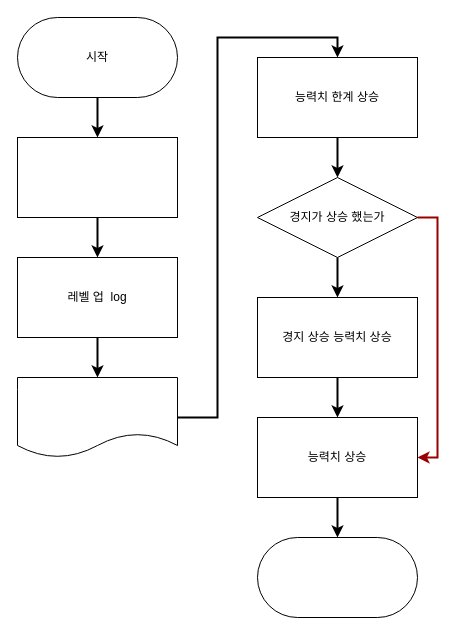
Some shapes in this 464 by 635 pixel diagram are drawn without their labels. The centre of each missing label's shape, as x and y in pixels:
레벨 상승: [97,177]
레벨 업 연출 발생: [97,417]
종료: [337,577]
